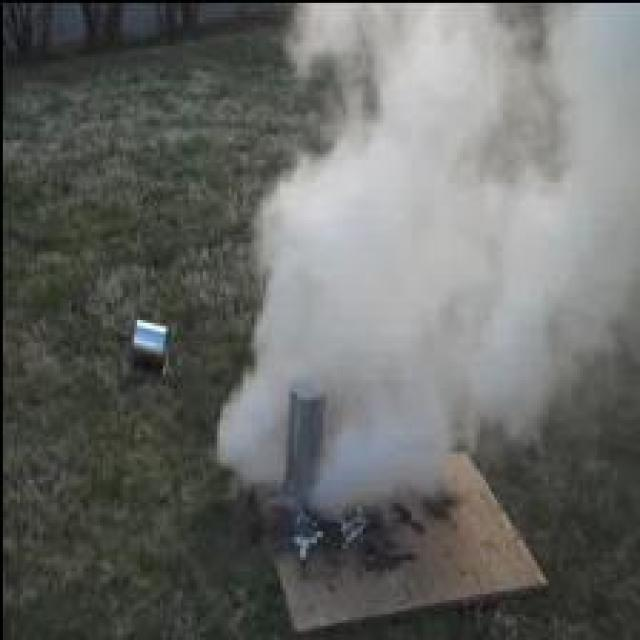Smoke: (217, 3, 640, 520)
